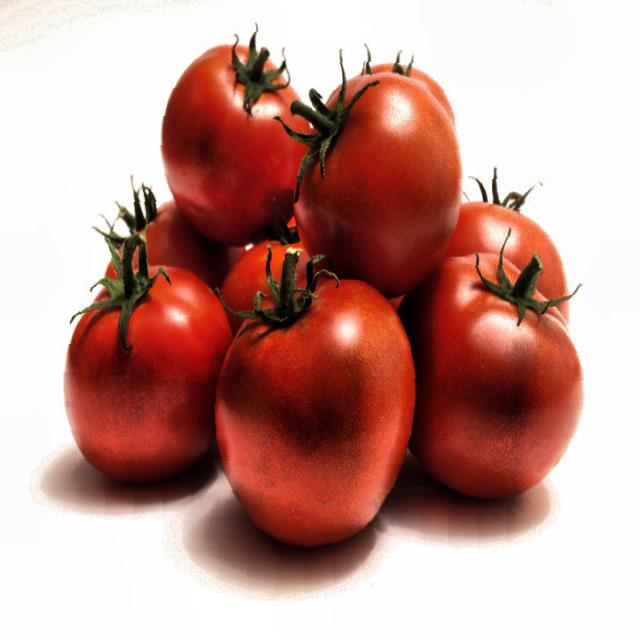tomato: (29, 5, 617, 634)
